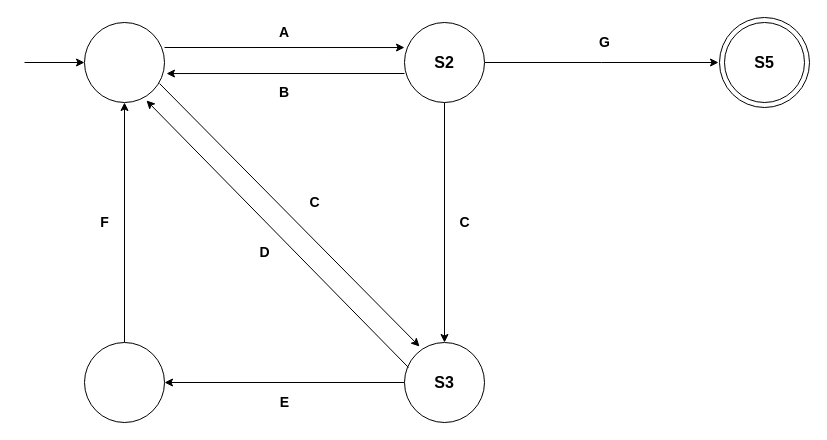
Some shapes in this 827 by 440 pixel diagram are drawn without their labels. The shapes that lost their labels are listed below. From the top down, each one's box as (x1, y1, x2, y2) in pixels, then its label:
(84, 22, 164, 102): S1
(84, 342, 164, 422): S4
